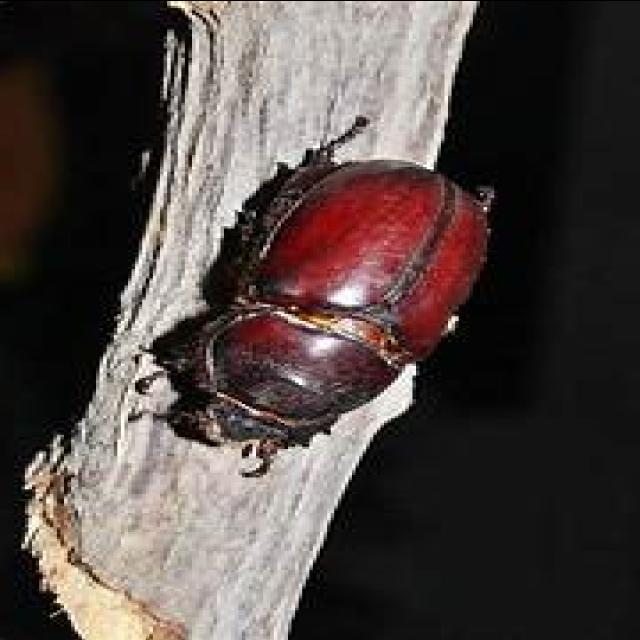Rhino-beetle: (168, 136, 500, 452)
